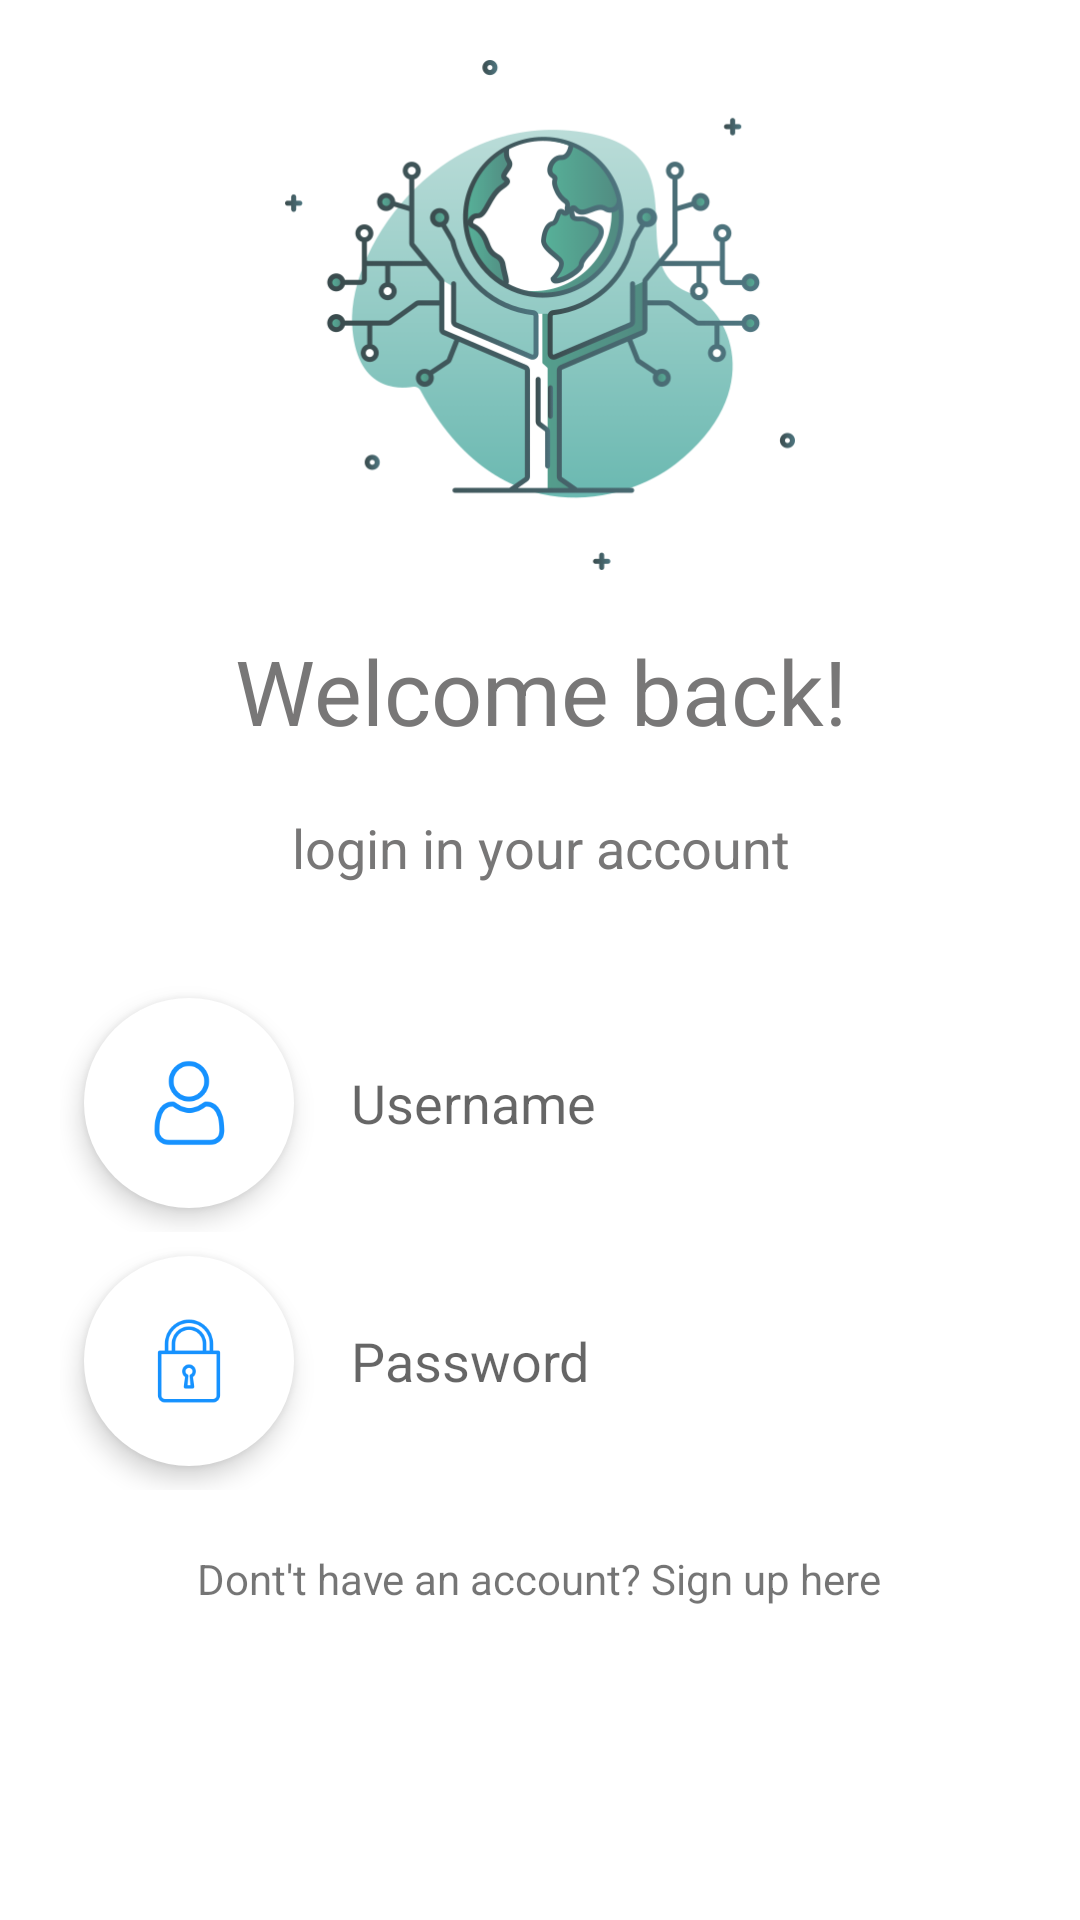

Named icons in this screenshot (1080w x 1920h) and their bounding boxes, [x1,y1,x2,y2]:
lock: [84,1319,288,1403]
